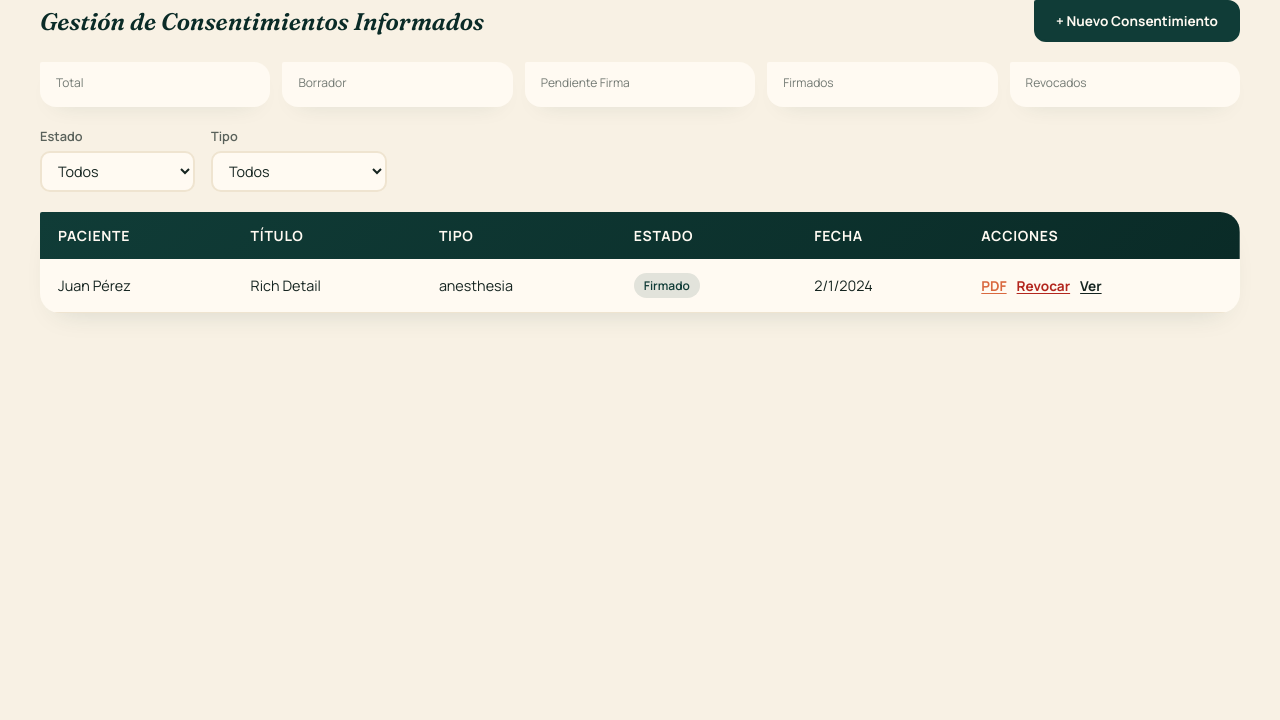
ConsentManagement › Detail modal content › renders risks, benefits, alternatives, and signatures when present
The image size is (1280, 720).
Expected: the text "Rich Detail" is shown, [233,259,421,312]
Click the button "Ver" at (1091, 286), box [1080,276,1102,294]
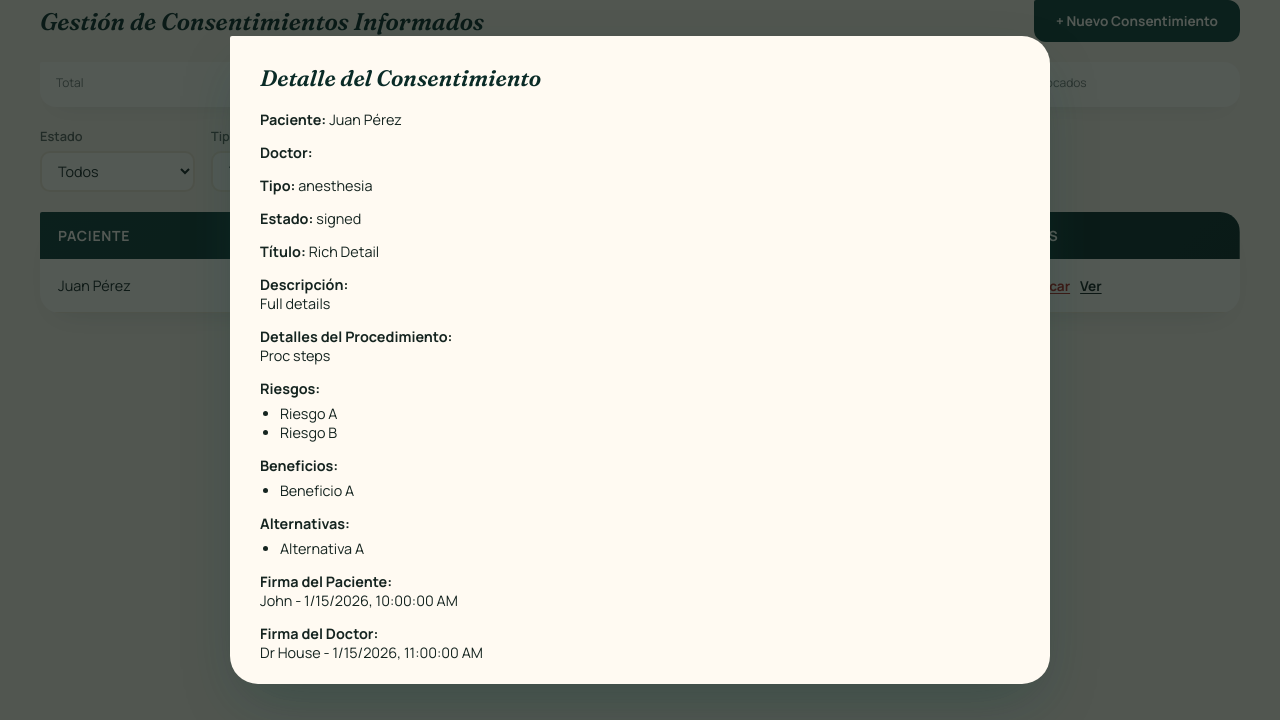
Expected: the list item "Riesgo A" is shown, [280,404,337,423]
Expected: the list item "Beneficio A" is shown, [280,481,354,500]
Expected: the list item "Alternativa A" is shown, [280,539,364,558]
